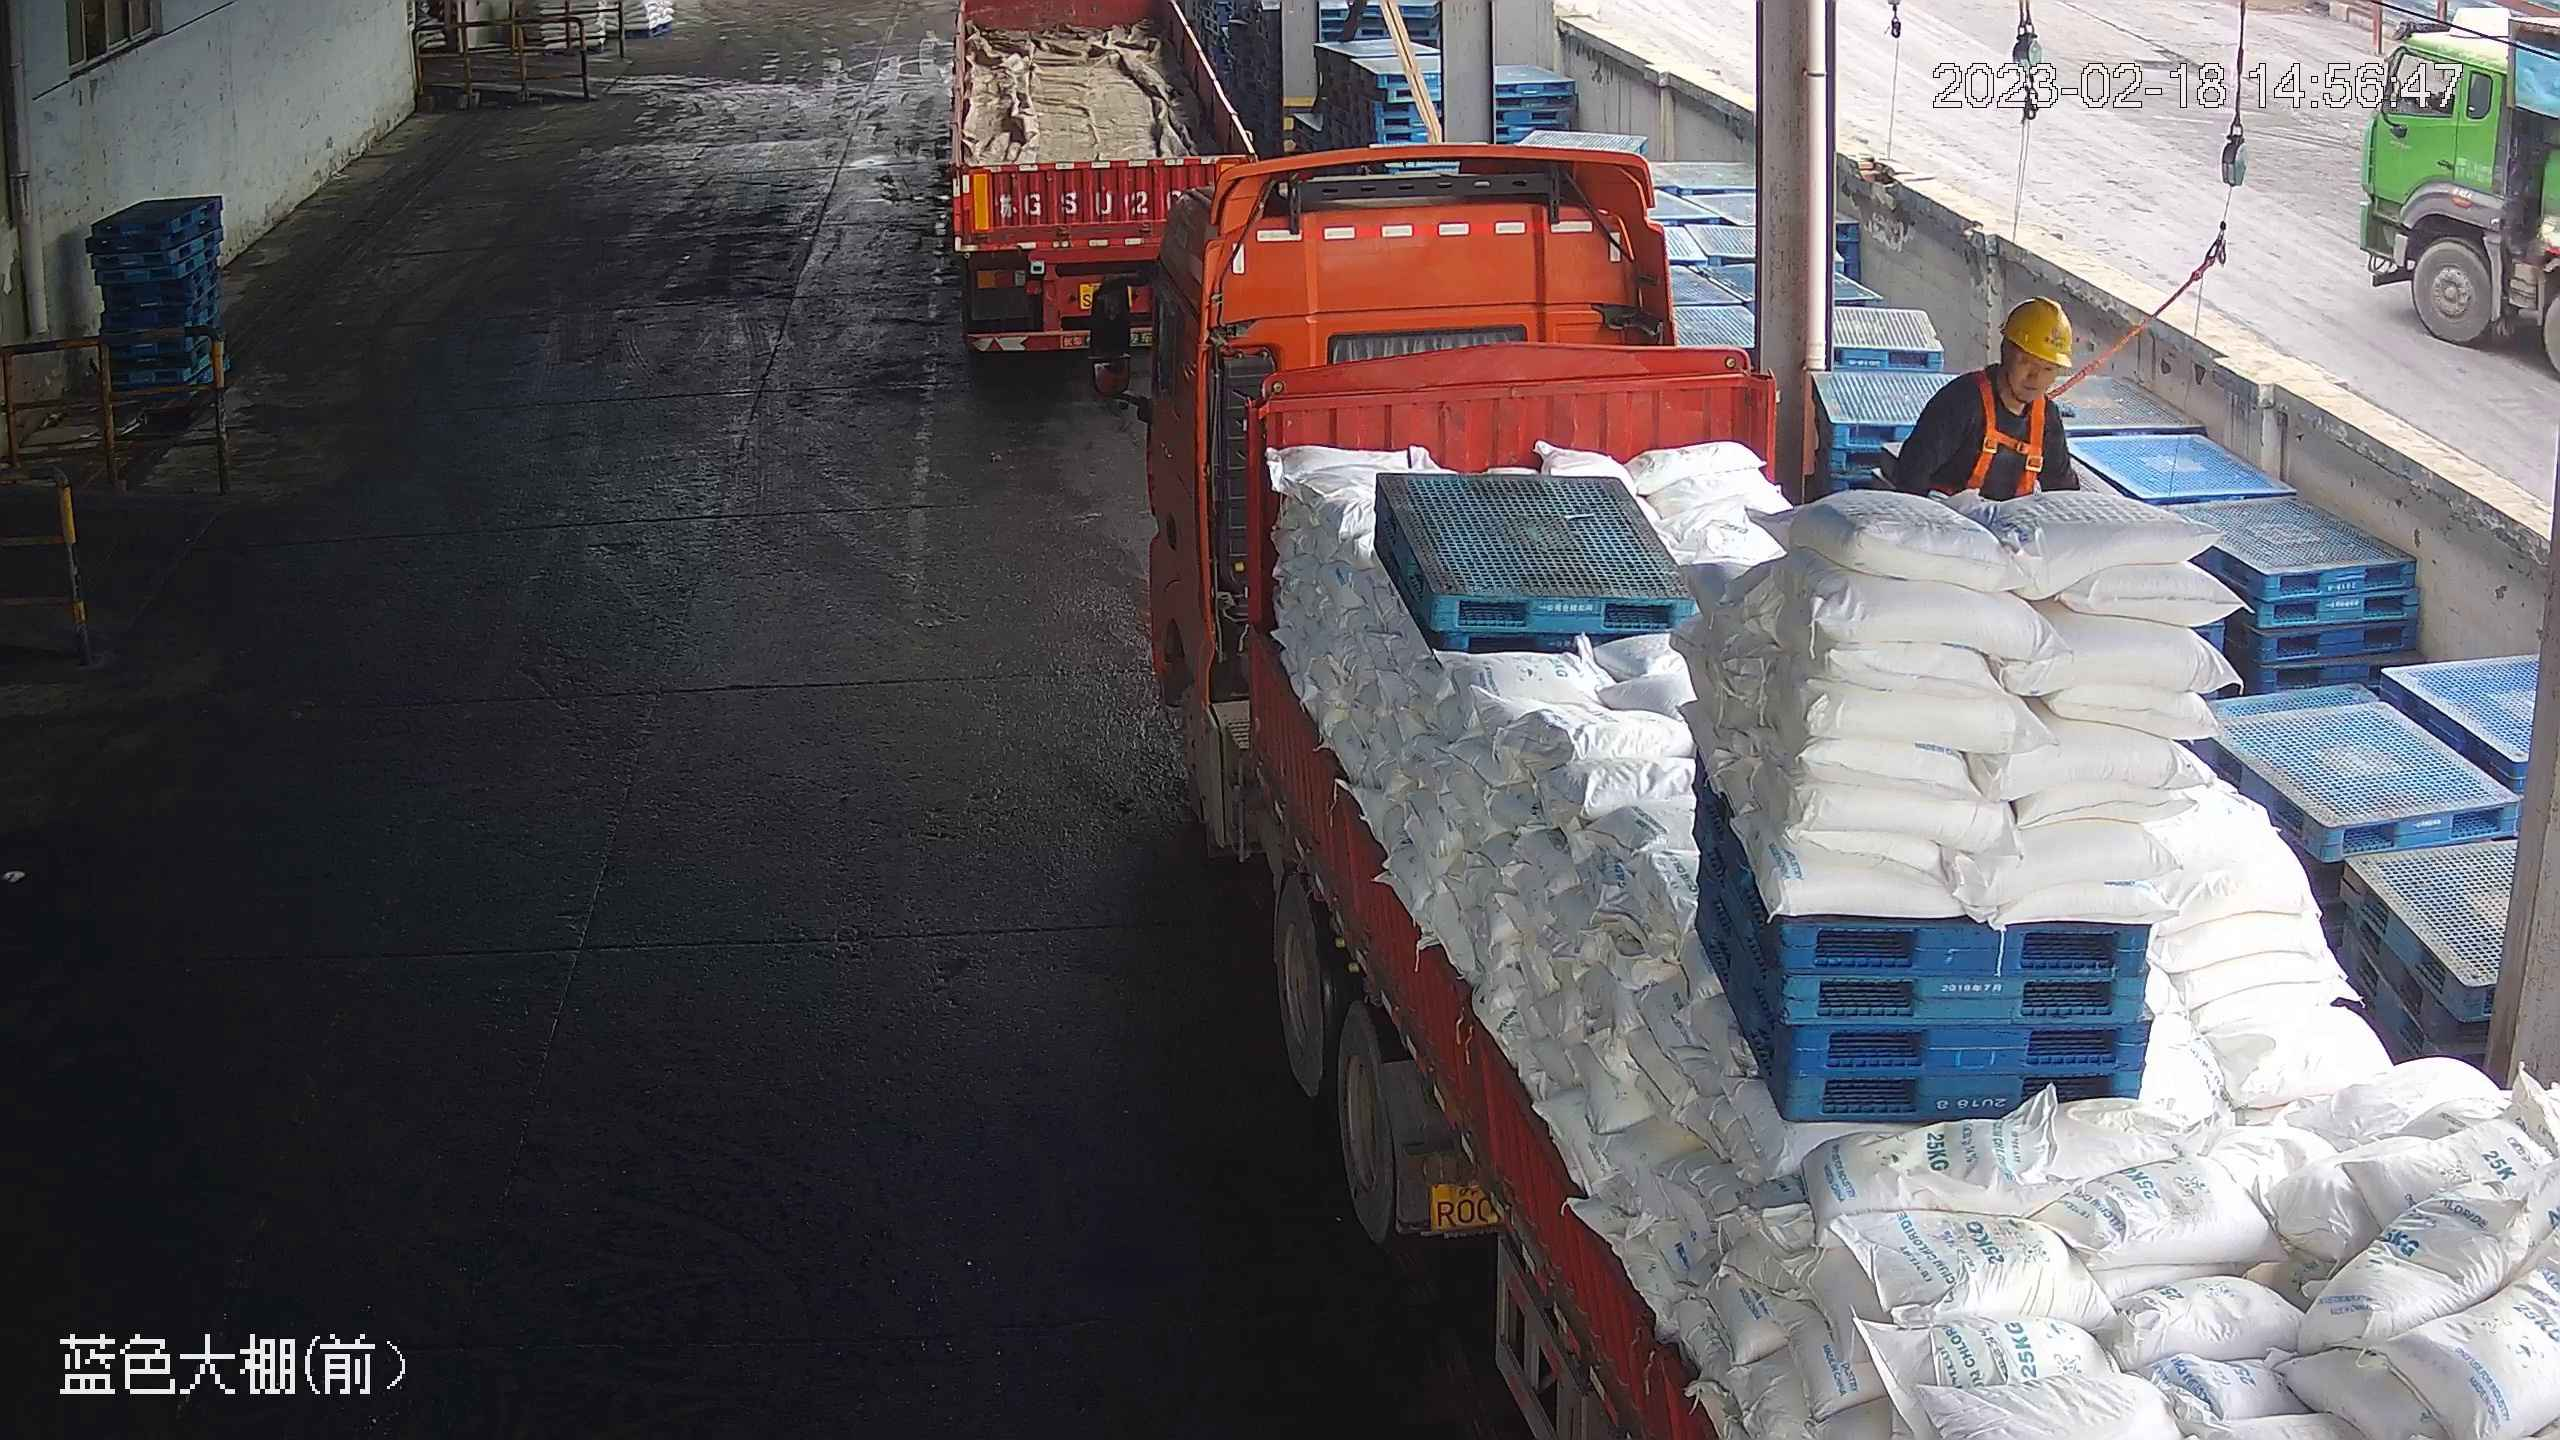belt: (1957, 366, 2054, 503)
head: (1917, 287, 2083, 464)
helmet: (1999, 289, 2076, 369)
truck: (1079, 149, 2555, 1440), (924, 1, 1256, 343)
